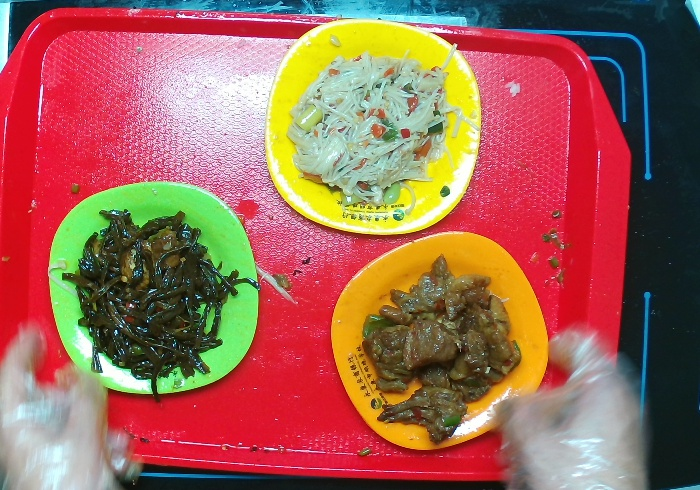YKMZ-Huang_Se_Fang_Die: (262, 17, 486, 238)
YKMZ-Ju_Se_Fang_Die: (326, 228, 556, 457)
YKMZ-Lv_Se_Fang_Die: (39, 174, 264, 400)
